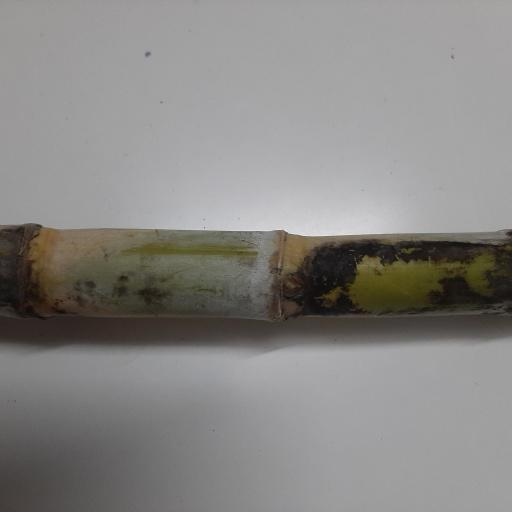Bud: (279, 276, 304, 297)
